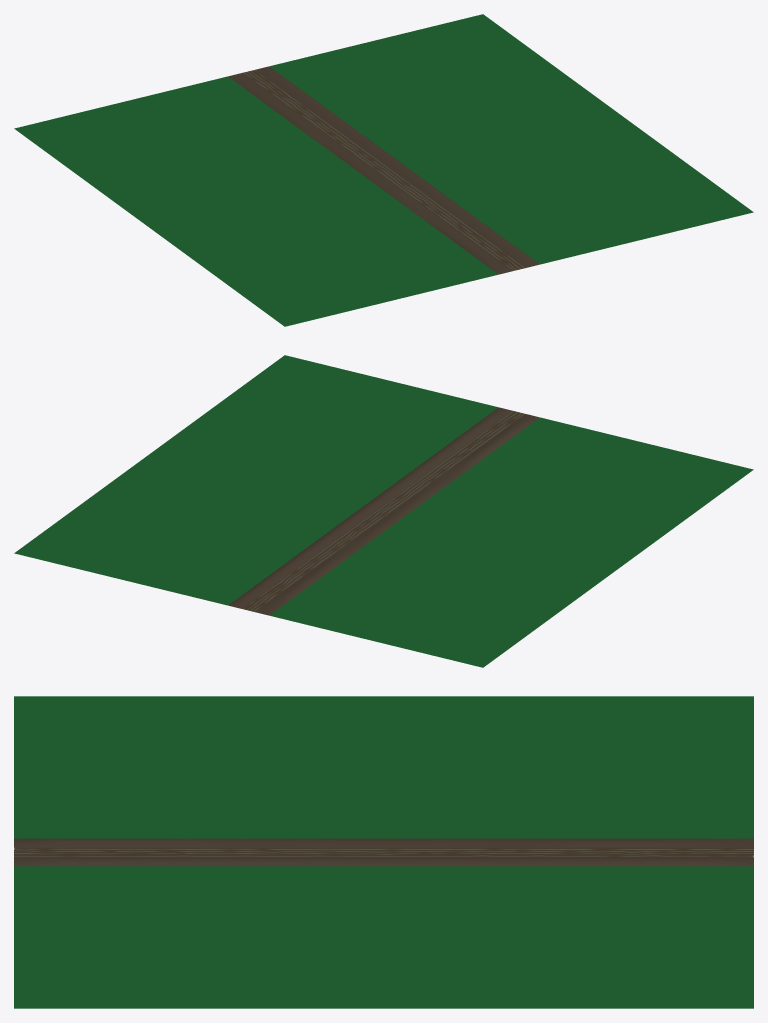
The model's file is TileForest1.fbx.
3 views of the same model, one above another, from view 1: azimuth 30°, elevation 25°; view 2: azimuth 150°, elevation 25°; view 3: azimuth 270°, elevation 25° (orthographic). The views are drawn at different scales.
Parts seen in each view (by area): view 1: Plane.013, Plane.017, Road; view 2: Plane.013, Plane.017, Road; view 3: Plane.013, Plane.017, Road.
Boxes of the visible parts, x1,y1,x2,y2 form: Plane.013: (14, 14, 753, 326); Plane.017: (228, 66, 539, 274); Road: (242, 69, 525, 271); Plane.013: (14, 355, 753, 667); Plane.017: (228, 407, 539, 615); Road: (242, 410, 525, 612); Plane.013: (14, 696, 753, 1008); Plane.017: (14, 838, 753, 866); Road: (14, 847, 753, 857).
Size of the model in its own units: 20000 by 58.88 by 20006.
